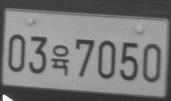0: (141, 42, 162, 83), (97, 39, 116, 79), (7, 33, 26, 71)
3: (28, 35, 47, 74)
5: (119, 41, 138, 80)
7: (75, 38, 95, 78)
육: (50, 44, 70, 76)
